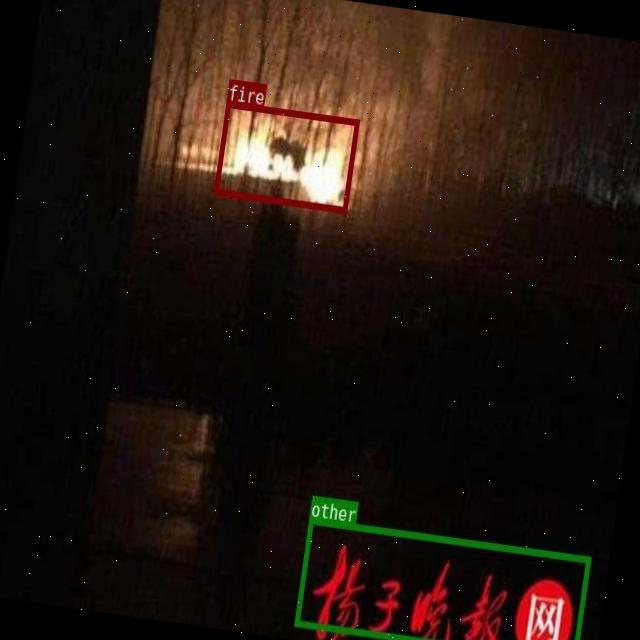fire: (213, 100, 359, 212)
